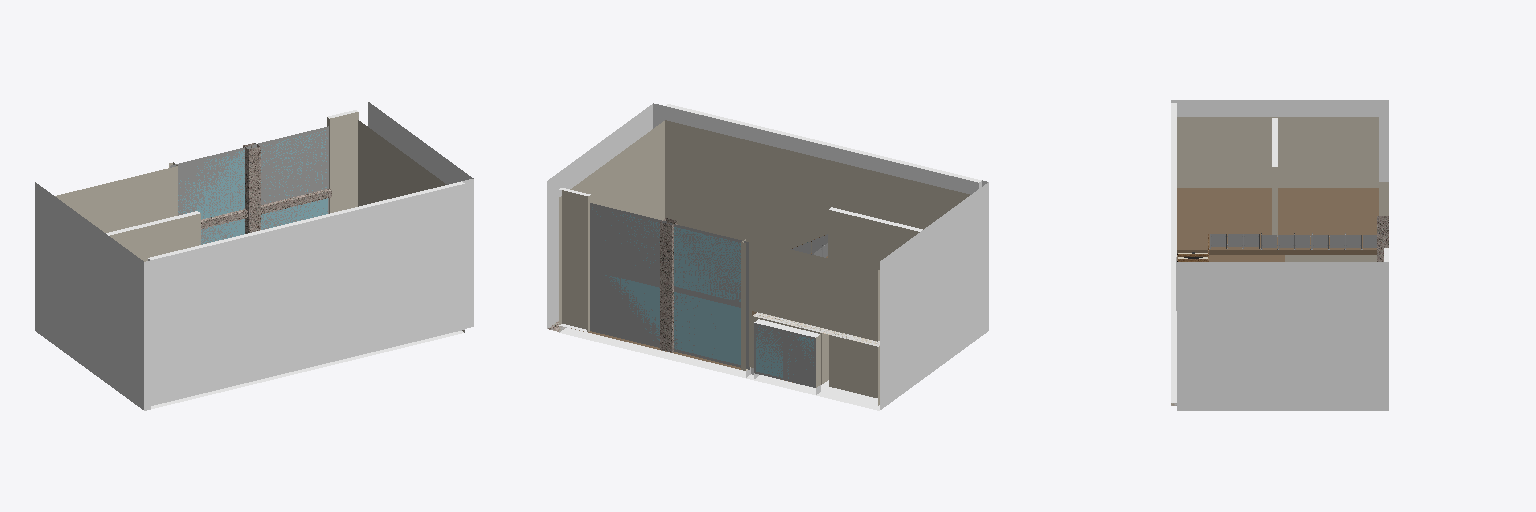
3 renders of one model, left to right at view 1: azimuth 30°, elevation 25°; view 2: azimuth 150°, elevation 25°; view 3: azimuth 270°, elevation 25°, orthographic.
Visible parts, largest first — view 1: Mesh186 Model, Mesh84 ventana_1_4 Model, Mesh83 ventana_1_3 Model, Mesh81 ventana_1_1 Model, Mesh82 ventana_1_2 Model; view 2: Mesh186 Model, Mesh83 ventana_1_3 Model, Mesh84 ventana_1_4 Model, Mesh81 ventana_1_1 Model, Mesh82 ventana_1_2 Model, Mesh184 ventana_1_5 Stair_details1 Model, Mesh185 ventana_1_6 Stair_details1 Model; view 3: Mesh186 Model.
Boxes of the visible parts, x1,y1,x2,y2 form: Mesh186 Model: [35, 102, 473, 410]; Mesh84 ventana_1_4 Model: [252, 126, 328, 204]; Mesh83 ventana_1_3 Model: [170, 146, 250, 219]; Mesh81 ventana_1_1 Model: [261, 198, 328, 229]; Mesh82 ventana_1_2 Model: [201, 219, 244, 244]; Mesh186 Model: [547, 103, 988, 410]; Mesh83 ventana_1_3 Model: [668, 223, 748, 306]; Mesh84 ventana_1_4 Model: [590, 203, 666, 284]; Mesh81 ventana_1_1 Model: [590, 268, 659, 347]; Mesh82 ventana_1_2 Model: [674, 289, 749, 369]; Mesh184 ventana_1_5 Stair_details1 Model: [754, 323, 784, 379]; Mesh185 ventana_1_6 Stair_details1 Model: [785, 330, 815, 387]; Mesh186 Model: [1171, 100, 1388, 410].
Size of the model in its own units: 20.83 by 8.94 by 11.85.
Materials: 18 (3 with a texture image).